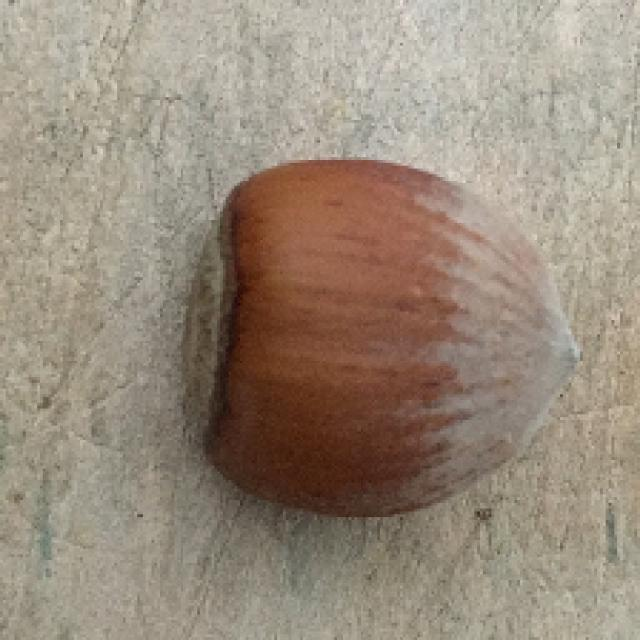qualityHazelnut: (182, 153, 584, 520)
